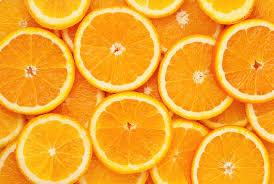orange: (67, 4, 162, 92), (86, 87, 175, 166), (152, 36, 227, 123), (0, 29, 75, 103), (182, 126, 274, 184), (212, 13, 274, 96), (19, 115, 100, 176)
